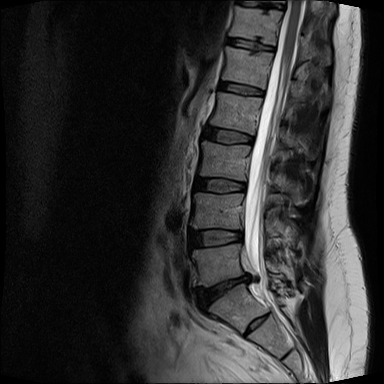Lumbar Disc Bulge (LDB): (188, 267, 258, 316)
Normal IVD: (198, 118, 260, 150), (182, 224, 250, 251), (192, 173, 250, 198), (211, 77, 270, 101), (223, 32, 278, 57)
Spinal Stenosis (SS): (239, 267, 260, 292)
